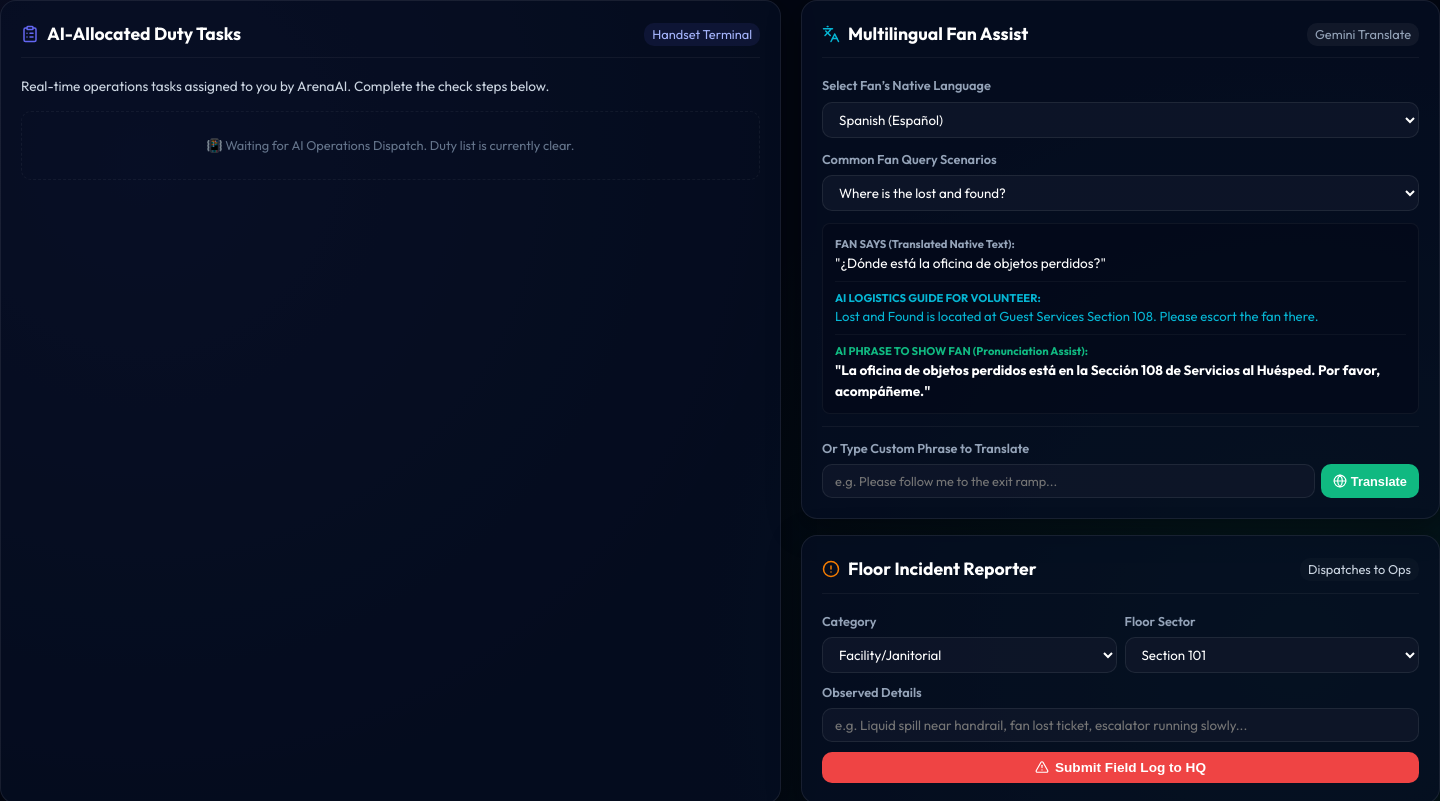
Test: VolunteerHub Component Tests › simulates custom phrase translations with Gemini AI API
Type "Follow me please." into the field with placeholder "e.g. Please follow me to the exit ramp..." at (1068, 481), box [822, 464, 1315, 498]
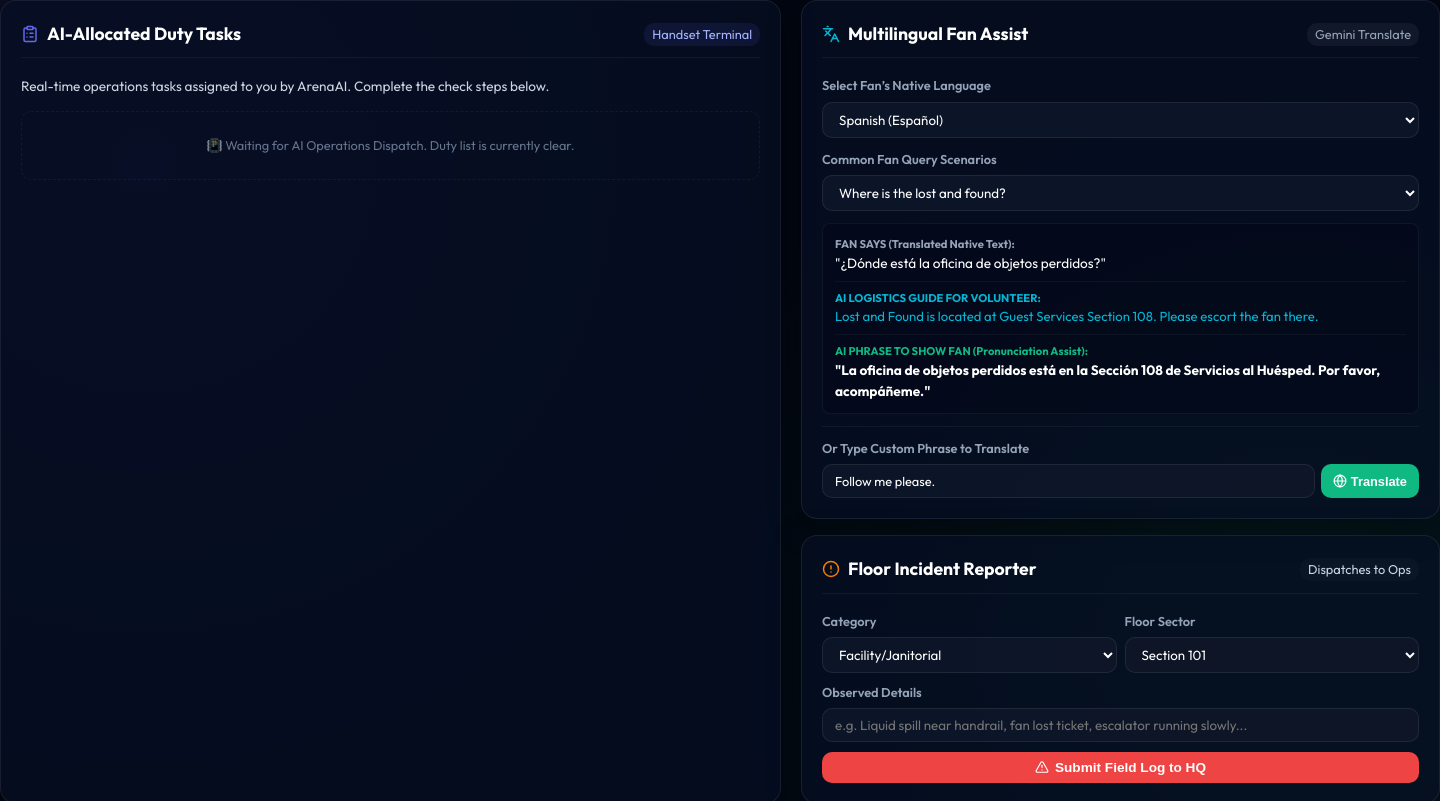
Click the button "Translate" at (1370, 481), box [1321, 464, 1419, 498]
Wait 1000 ms
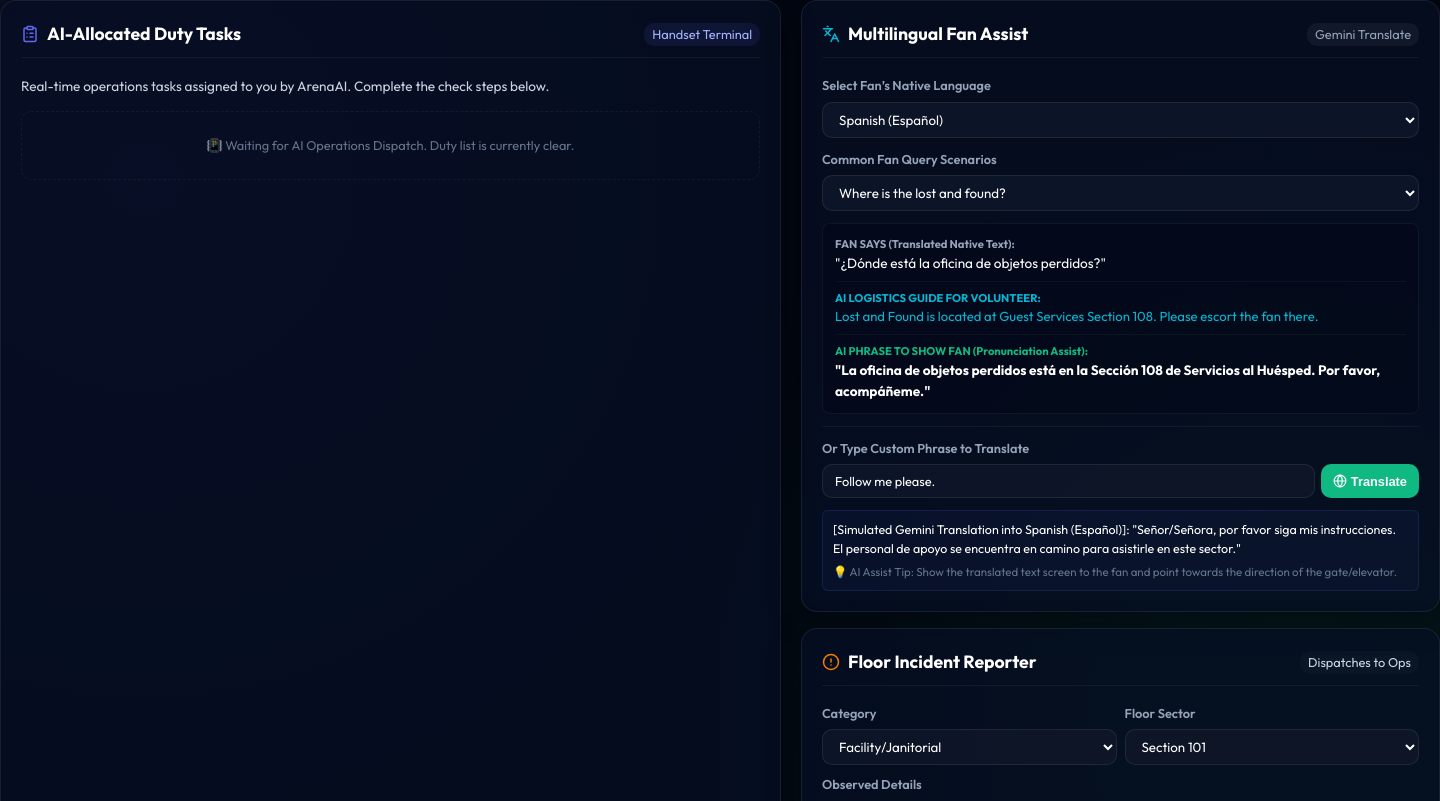
Expected: the text "Señor/Señora, por favor siga mis instrucciones" is shown, [833, 522, 1396, 556]
